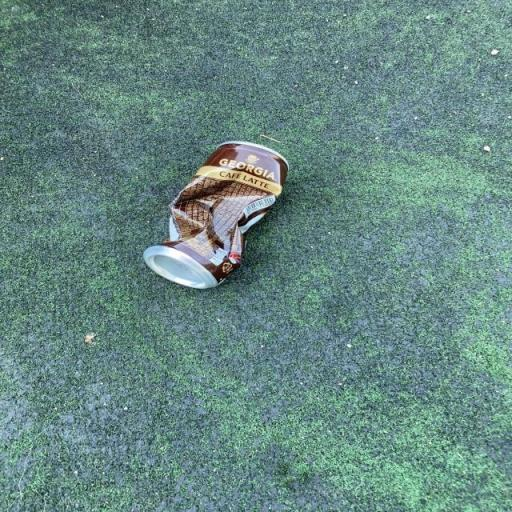metal: (126, 119, 314, 309)
